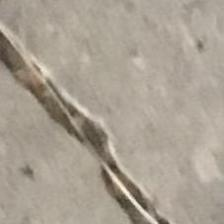Crack: (0, 18, 202, 224)
